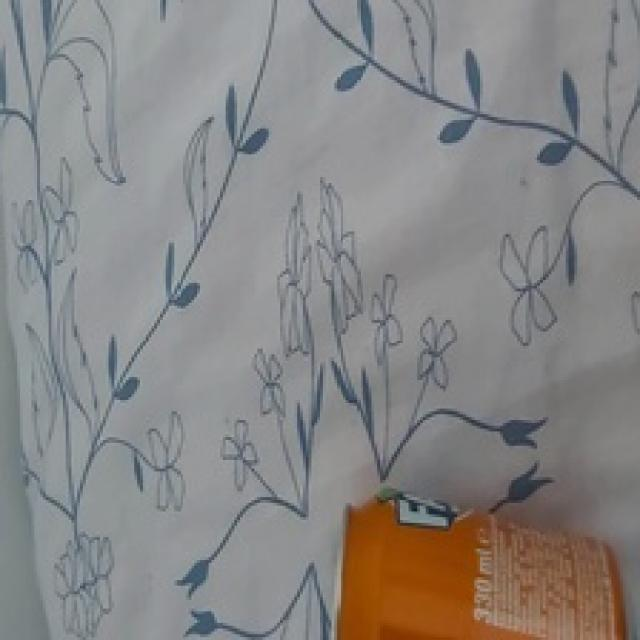recyclable: (330, 490, 635, 640)
